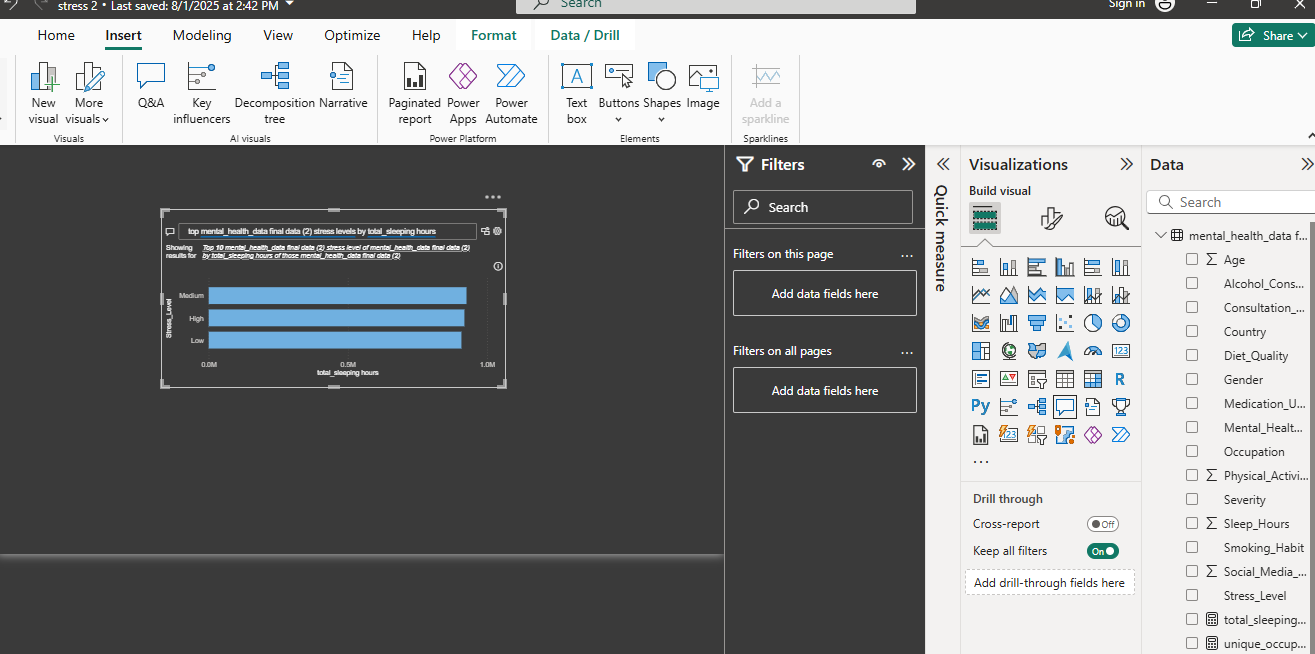

What the dashboard file says about the page in this screenshot:
{"tool":"powerbi","page":{"name":"ai visuals","canvas":[1280,720],"ordinal":3},"visuals":[{"type":"qnaVisual","box":[288.7,112.7,607.4,315.2],"z":0}]}

Visuals, with their boxes on the page's 1280x720 design canvas (x1, y1, x2, y2). These are canvas units, not pixel positions in the 1315x654 screenshot, which may show the page scaled, cropped or inside an application window:
qnaVisual: 289, 113, 896, 428
